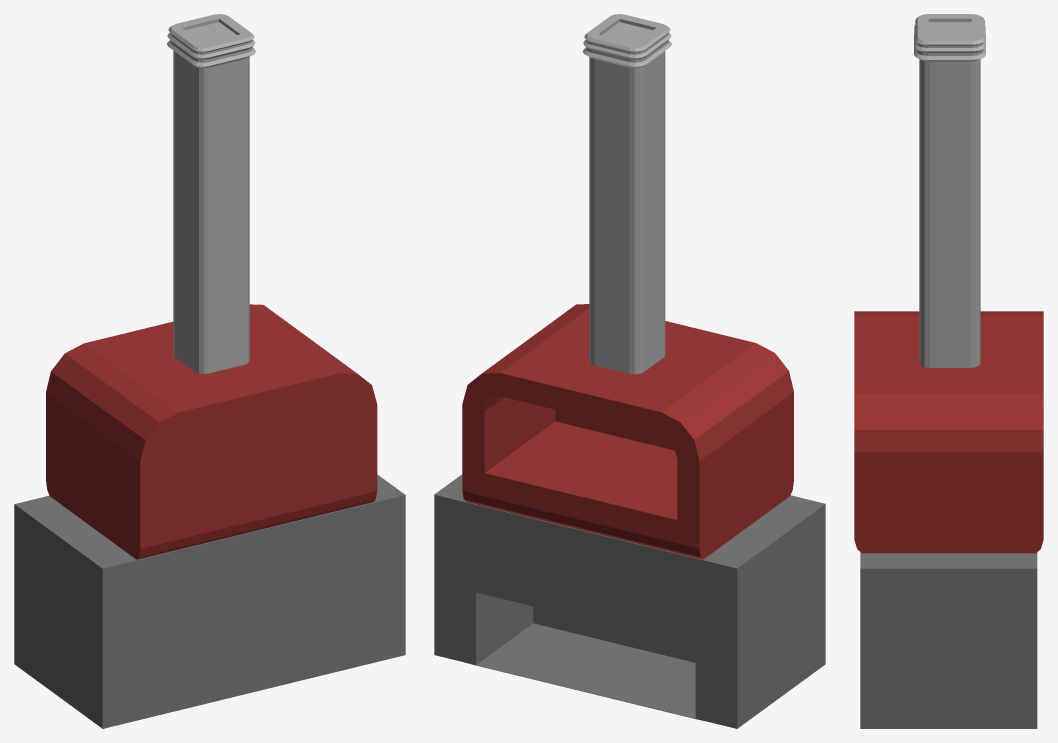
The model's file is pizzaOven.fbx.
3 views of the same model, side by side, from view 1: azimuth 30°, elevation 25°; view 2: azimuth 150°, elevation 25°; view 3: azimuth 270°, elevation 25° (orthographic).
Visible parts, largest first — view 1: Cube.004; view 2: Cube.004; view 3: Cube.004.
Part boxes in pixels (x1=…): Cube.004: x1=14, y1=14, x2=405, y2=728; Cube.004: x1=434, y1=14, x2=825, y2=728; Cube.004: x1=854, y1=14, x2=1043, y2=728.
Size of the model in its own units: 695 by 1378 by 376.
